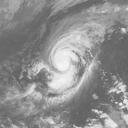cyclone: (32, 25, 87, 107)
